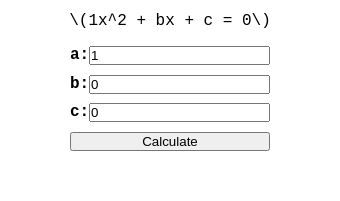
Scenario: QuadraticCalculator component › shows a message when a = 0
Replace the text in the number field with test id "input-a" with "0": (180, 56) [89,46,270,65]
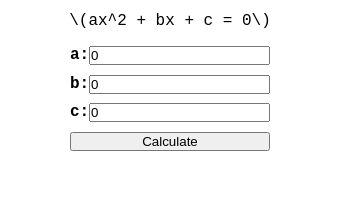
Replace the text in the number field with test id "input-b" with "2": (180, 84) [89,75,270,94]
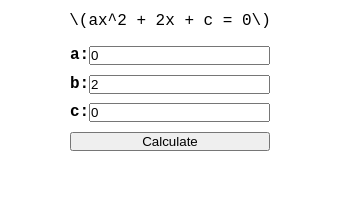
Replace the text in the number field with test id "input-c" with "1": (180, 113) [89,103,270,122]
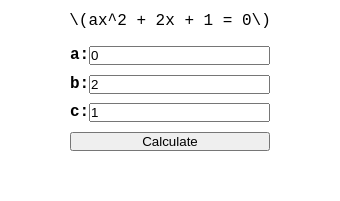
Click the button with test id "calculate-button": (170, 141) [70,132,270,151]
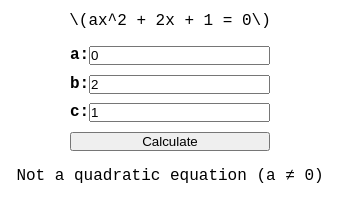
Expected: the text with test id "result" shows "Not a quadratic equation", [16,167,324,185]
